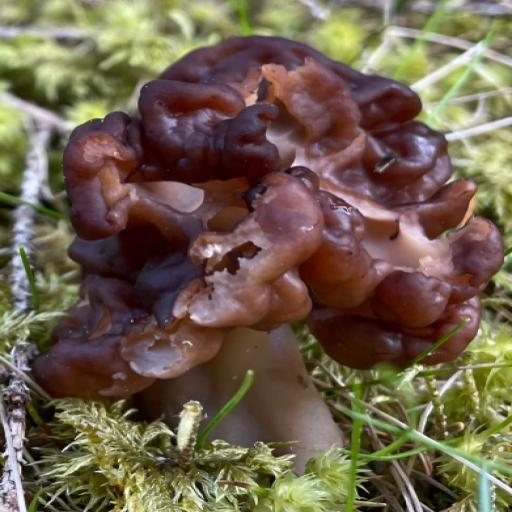mushroom: (4, 0, 512, 500), (189, 174, 323, 326)
